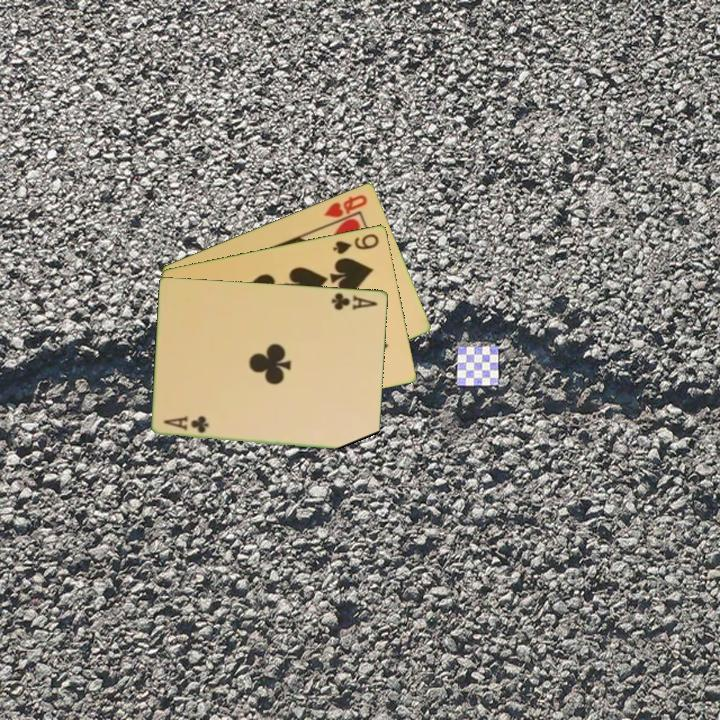9s: (330, 230, 382, 257)
Ac: (328, 289, 380, 313), (160, 413, 212, 436)
Qh: (321, 191, 370, 227)
